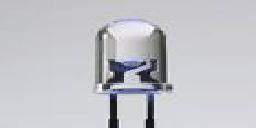LED: (93, 16, 172, 128)
